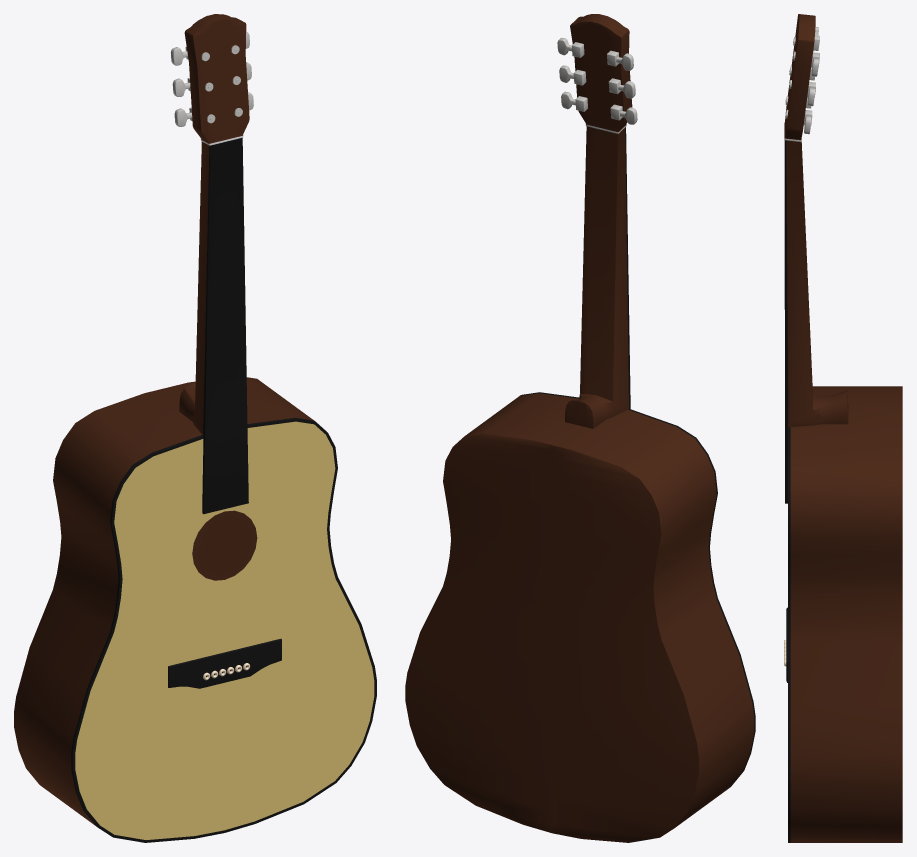
The model's file is 2024_Acousttic Guitar.fbx.
The picture shows the model from 3 angles, left to right: view 1: azimuth 30°, elevation 25°; view 2: azimuth 150°, elevation 25°; view 3: azimuth 270°, elevation 25°; orthographic projection. The views are drawn at different scales.
Parts seen in each view (by area): view 1: Cylinder.022; view 2: Cylinder.022; view 3: Cylinder.022.
Boxes of the visible parts, x1,y1,x2,y2 form: Cylinder.022: (14,14,376,842); Cylinder.022: (405,14,755,842); Cylinder.022: (784,14,902,842).
Bounding box in the file's own units: 226 × 575 × 77.88.
